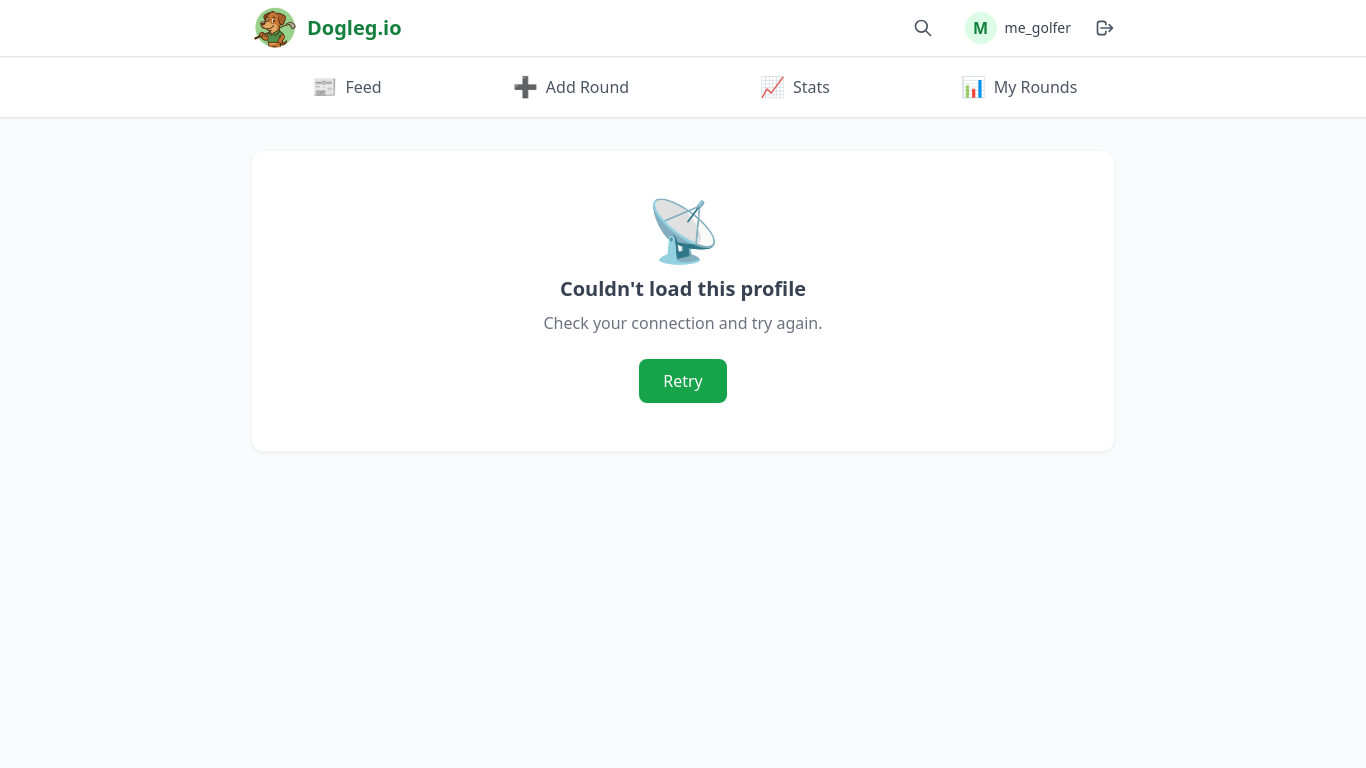
it: profile load errors (SHELL-5) › a profile that fails to load says so (not "Page not found") and can be retried
This screenshot has width=1366, height=768.
Expected: the heading "Couldn't load this profile" is shown, top-left (560, 275), bottom-right (806, 302)
Click the button "Retry". click: (683, 381)
box: top-left (639, 359), bottom-right (727, 403)
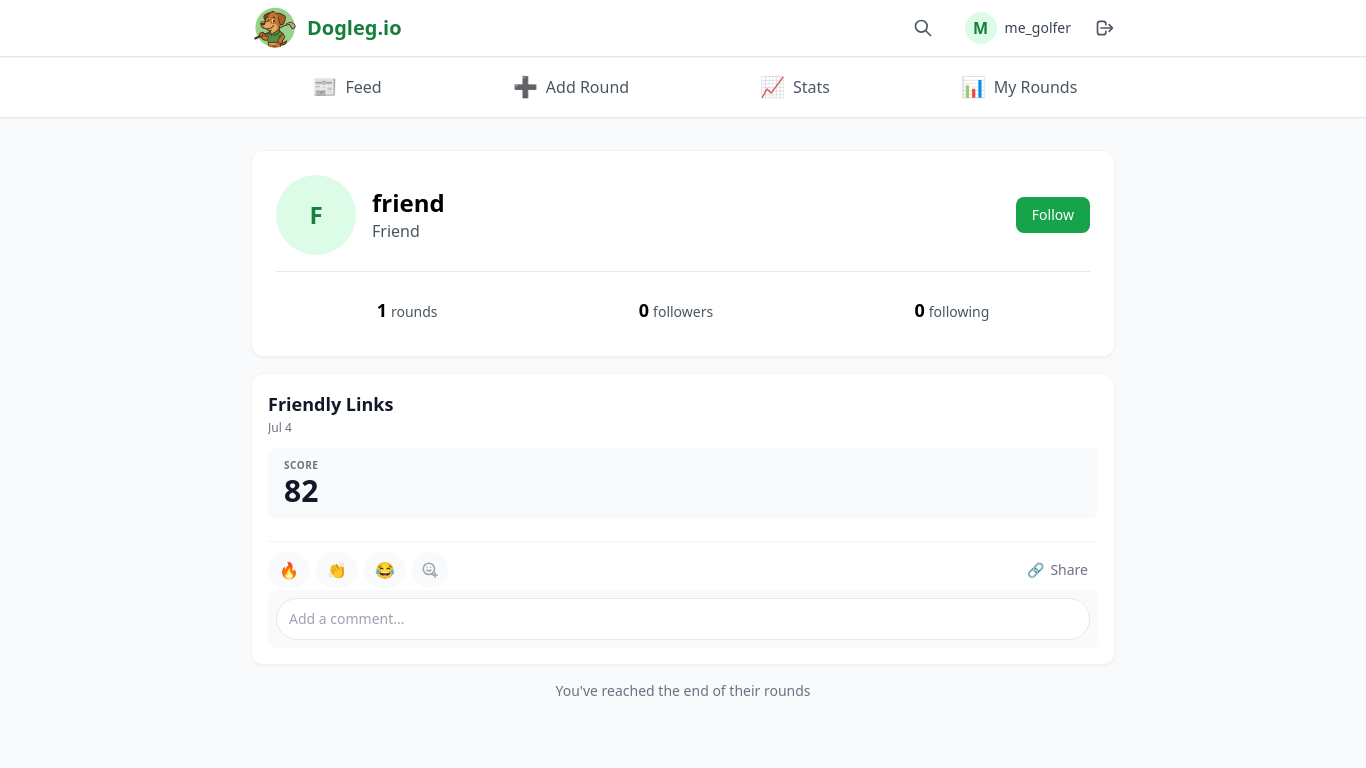
Now the heading "friend" is shown, box top-left (372, 186), bottom-right (445, 219)
